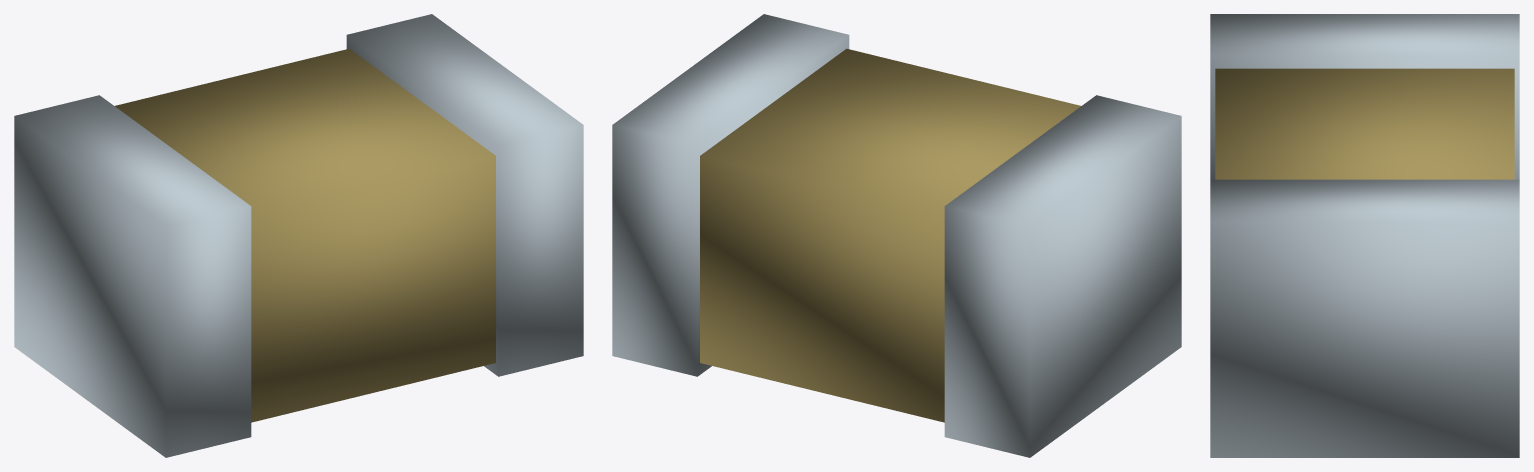
The model's file is 34_L94_C2_OutputBulk_22u.fbx.
The picture shows the model from 3 angles, left to right: view 1: azimuth 30°, elevation 25°; view 2: azimuth 150°, elevation 25°; view 3: azimuth 270°, elevation 25°; orthographic projection. The views are drawn at different scales.
Visible parts, largest first — view 1: L94_OutputBulk_22u_Part_0001, L94_OutputBulk_22u_Part_0000; view 2: L94_OutputBulk_22u_Part_0001, L94_OutputBulk_22u_Part_0000; view 3: L94_OutputBulk_22u_Part_0001, L94_OutputBulk_22u_Part_0000.
Boxes of the visible parts, x1,y1,x2,y2 form: L94_OutputBulk_22u_Part_0001: (14, 14, 583, 457); L94_OutputBulk_22u_Part_0000: (115, 48, 495, 422); L94_OutputBulk_22u_Part_0001: (612, 14, 1181, 457); L94_OutputBulk_22u_Part_0000: (700, 48, 1080, 422); L94_OutputBulk_22u_Part_0001: (1210, 14, 1519, 457); L94_OutputBulk_22u_Part_0000: (1215, 68, 1514, 179).
Size of the model in its own units: 5.49 by 2.9 by 3.45.
